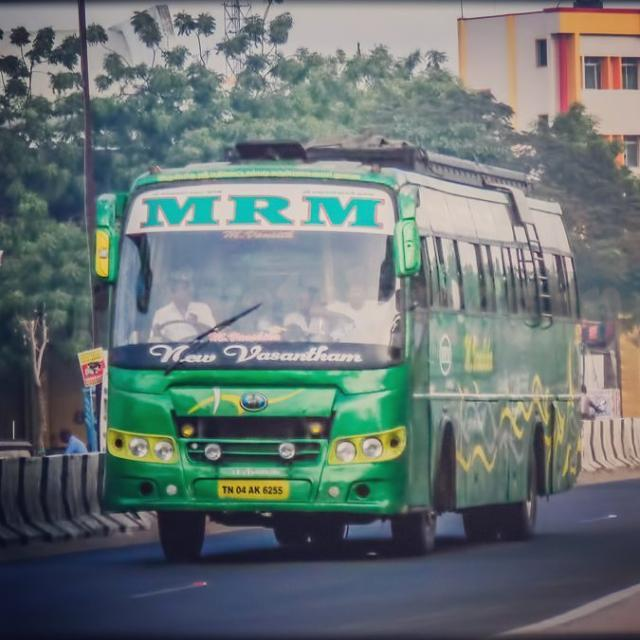Bus: (92, 139, 594, 572)
